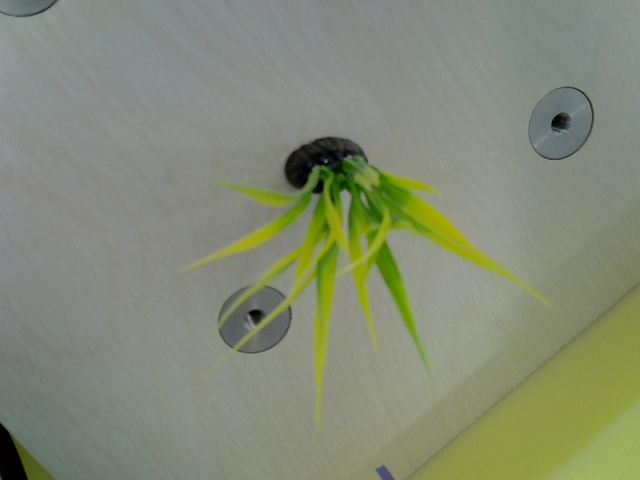해바라기새싹: (180, 141, 532, 372)
